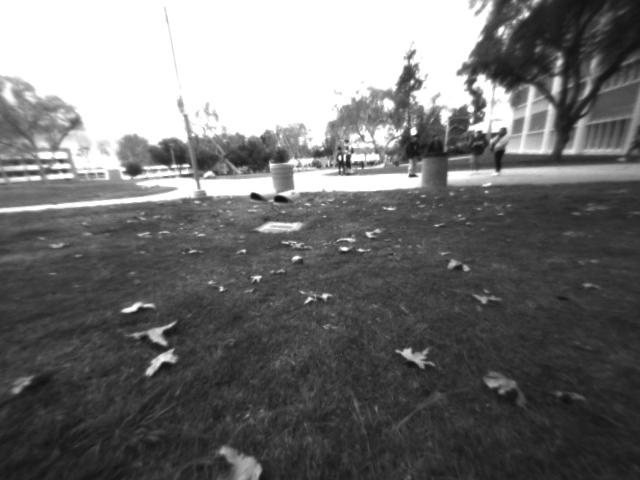trashcan: (420, 151, 448, 195), (270, 162, 301, 191)
